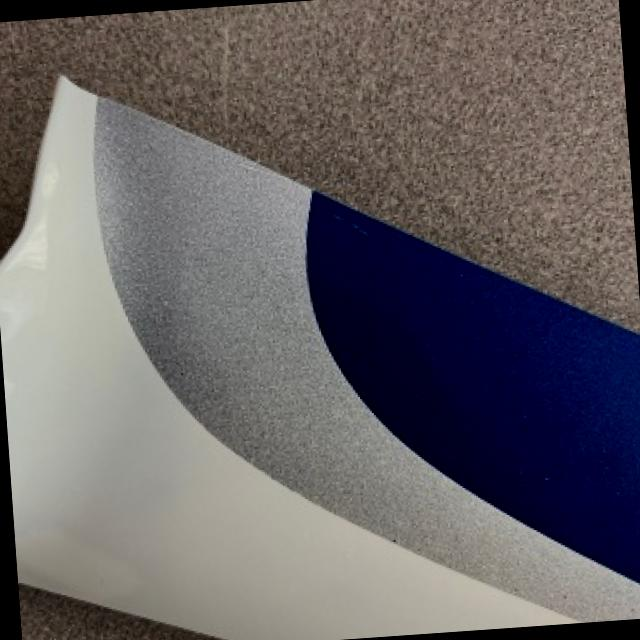healthy: (0, 75, 640, 640)
